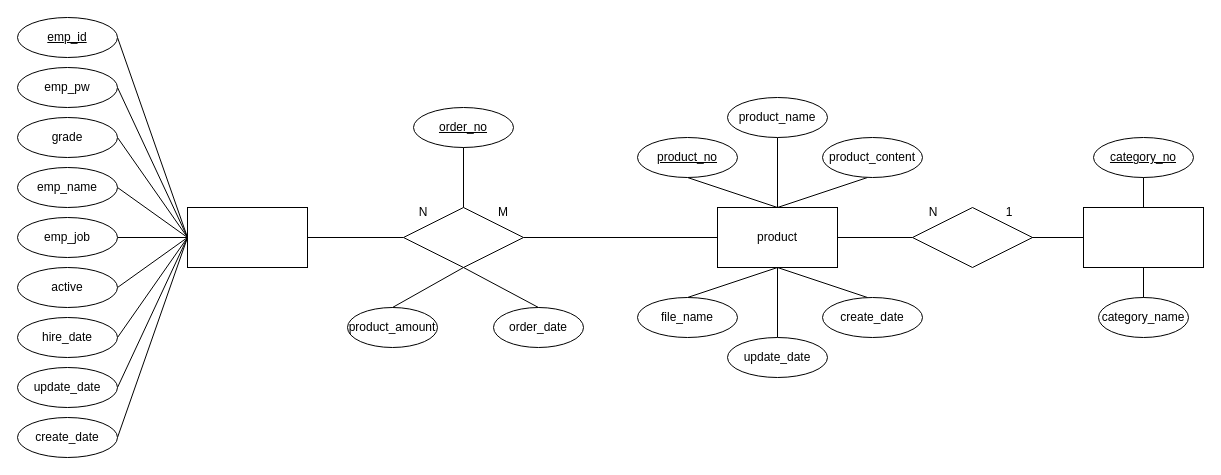
The diagram is 1221 pixels wide and 475 high, and some of its shapes have lost their labels. The box of each missing label's shape, as (x1, y1, x2, y2) in pixels:
category: (1082, 206, 1204, 268)
emp: (186, 206, 308, 268)
manage: (912, 206, 1032, 268)
order: (402, 206, 524, 268)
